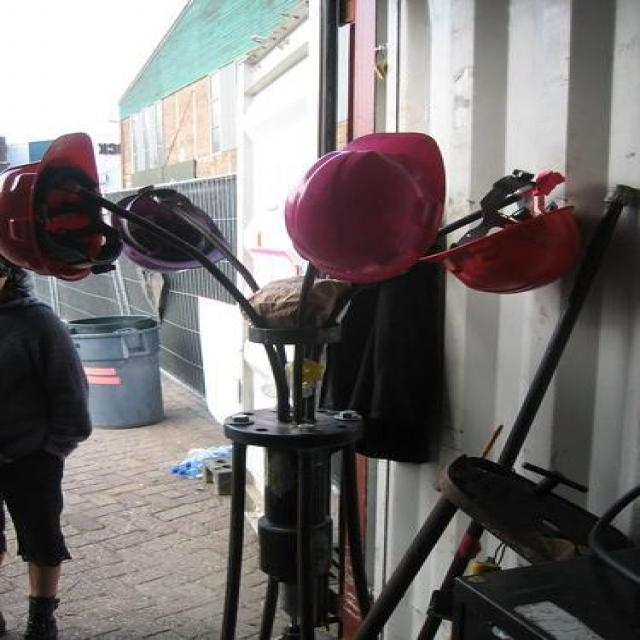Safety-Helmet: (290, 124, 450, 284), (0, 132, 120, 282)
